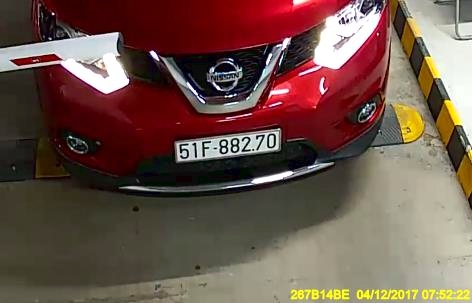plate: (173, 126, 283, 165)
